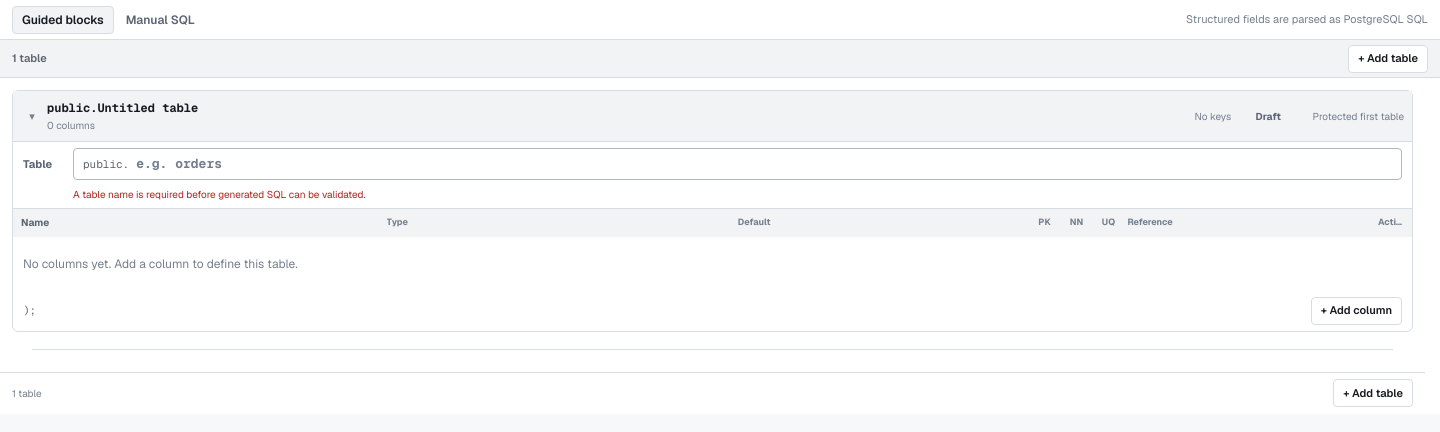
Test: guided editor › retains a default across type changes and diagnoses a known incompatible preset
Click the button "+ Add column": (1356, 310) [1311,296,1402,324]
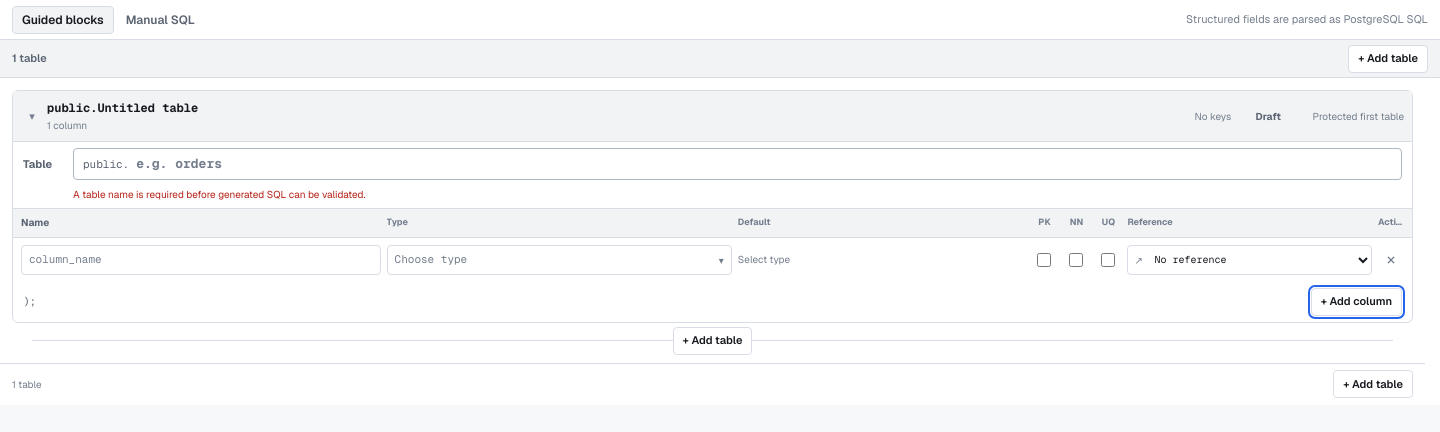
In the dropdown named "Column 1 type": (559, 260) [387,244,732,274], type "uuid"
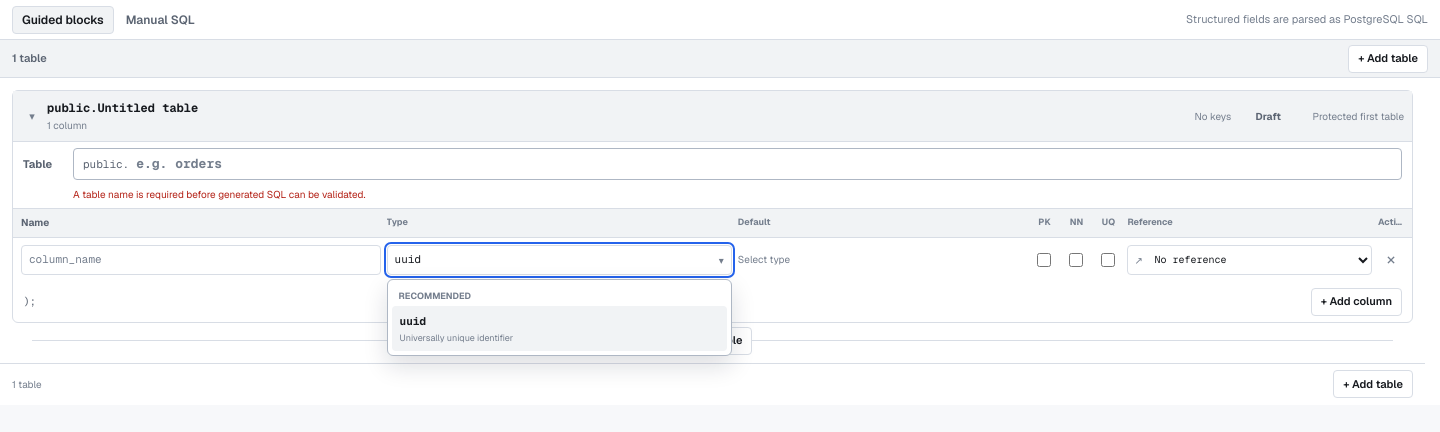
Click the option "uuid Universally unique identifier": (456, 338) [392,306,727,351]
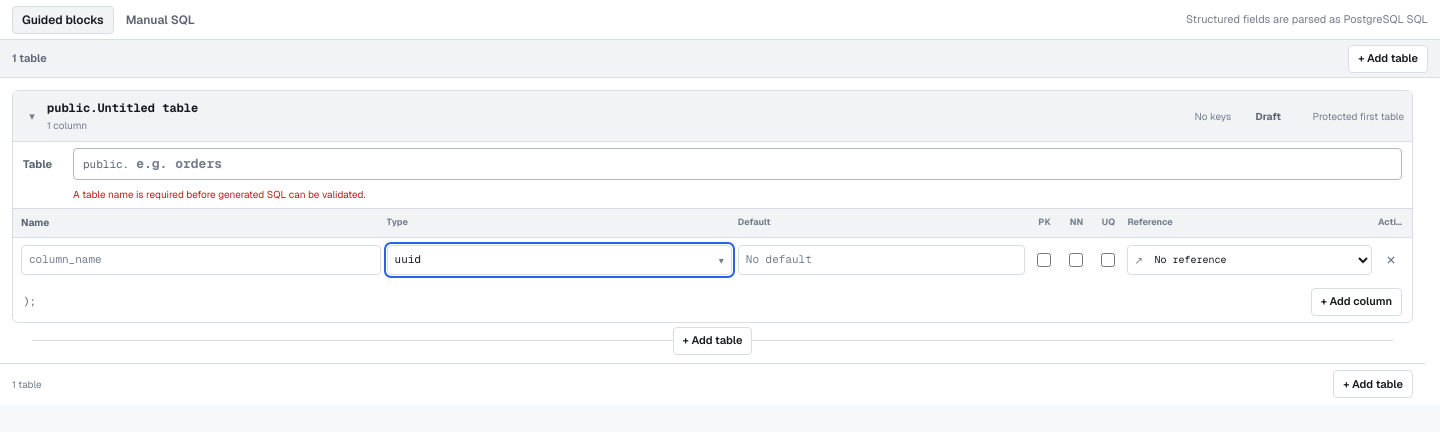
In the field named "Column 1 default expression": (882, 260) [738,244,1026,274], type "gen_random_uuid()"
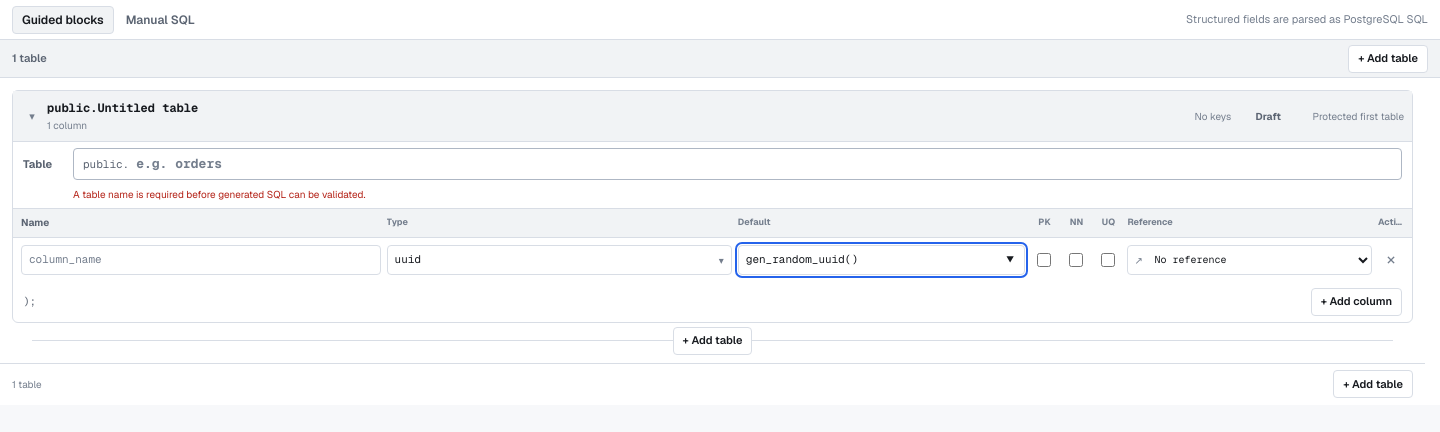
In the dropdown named "Column 1 type": (559, 260) [387,244,732,274], type "text"
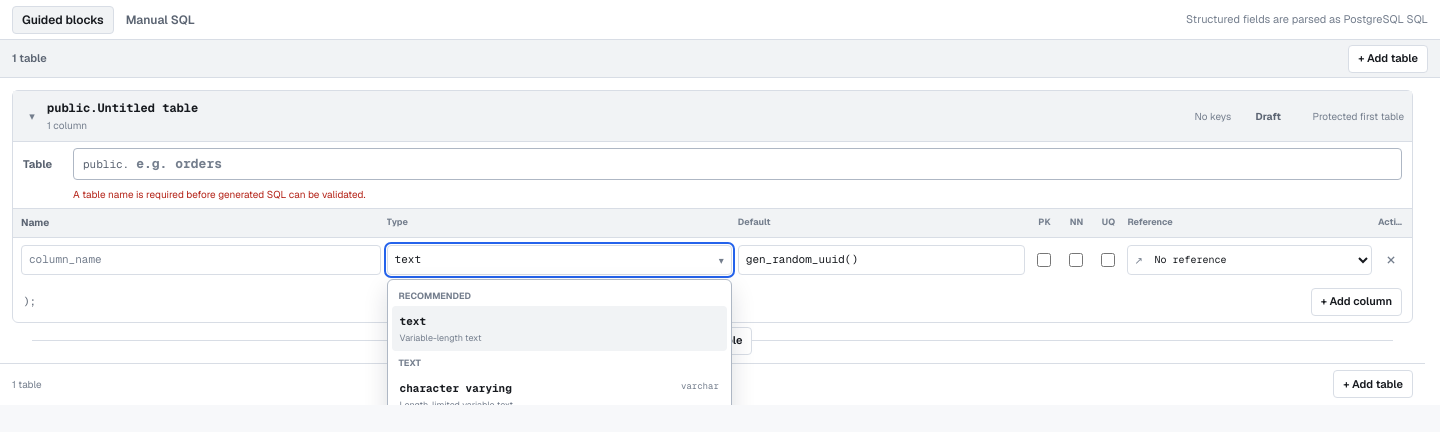
Click the option "text Variable-length text": (440, 338) [392,306,727,351]
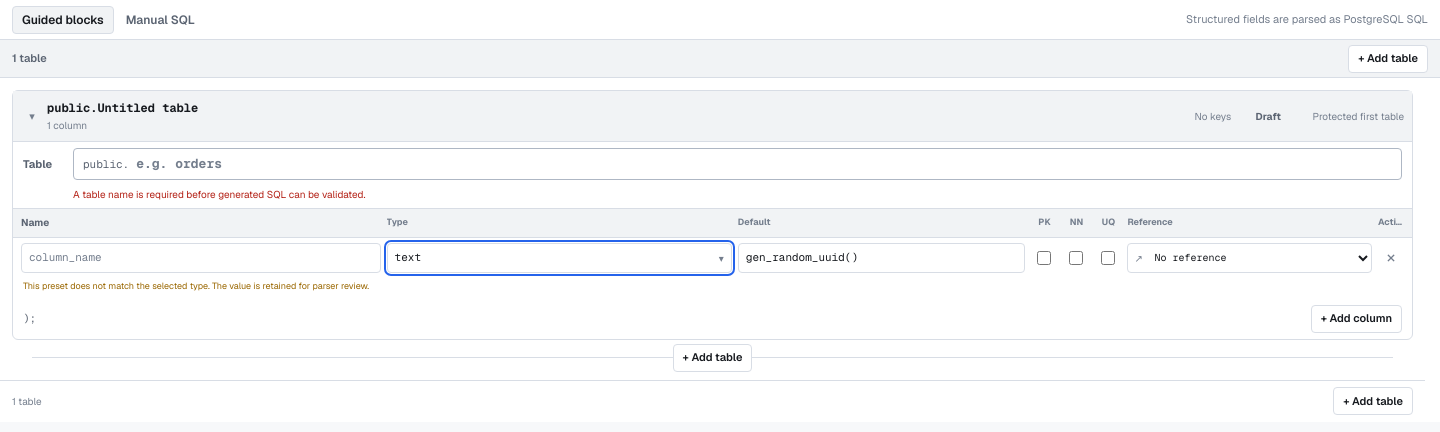
Expected: the message shows "does not match the selected type", [23,280,369,292]
